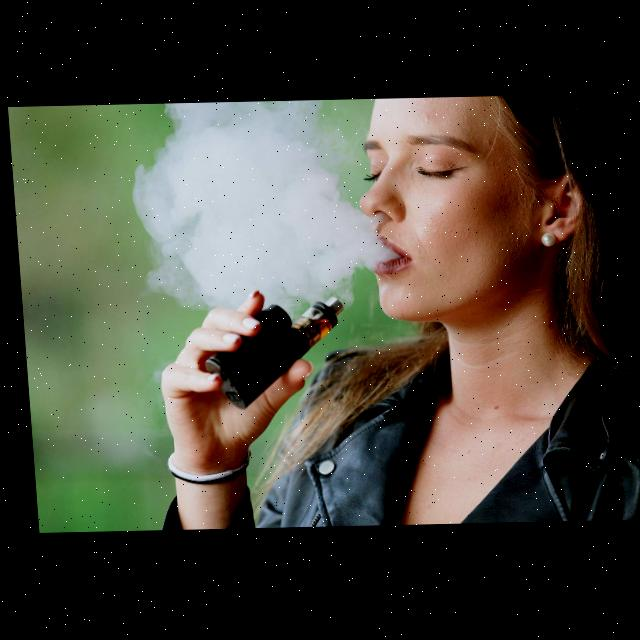vape: (195, 297, 345, 412)
